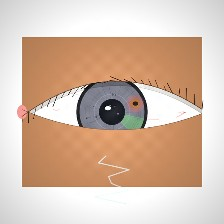foreign_body_visible: (118, 132, 149, 157)
